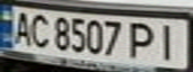0: (84, 17, 106, 56)
5: (66, 16, 87, 54)
7: (103, 17, 127, 57)
8: (48, 14, 72, 52)
A: (9, 8, 36, 46)
C: (27, 11, 51, 48)
I: (151, 20, 187, 62)
P: (124, 19, 163, 61)
